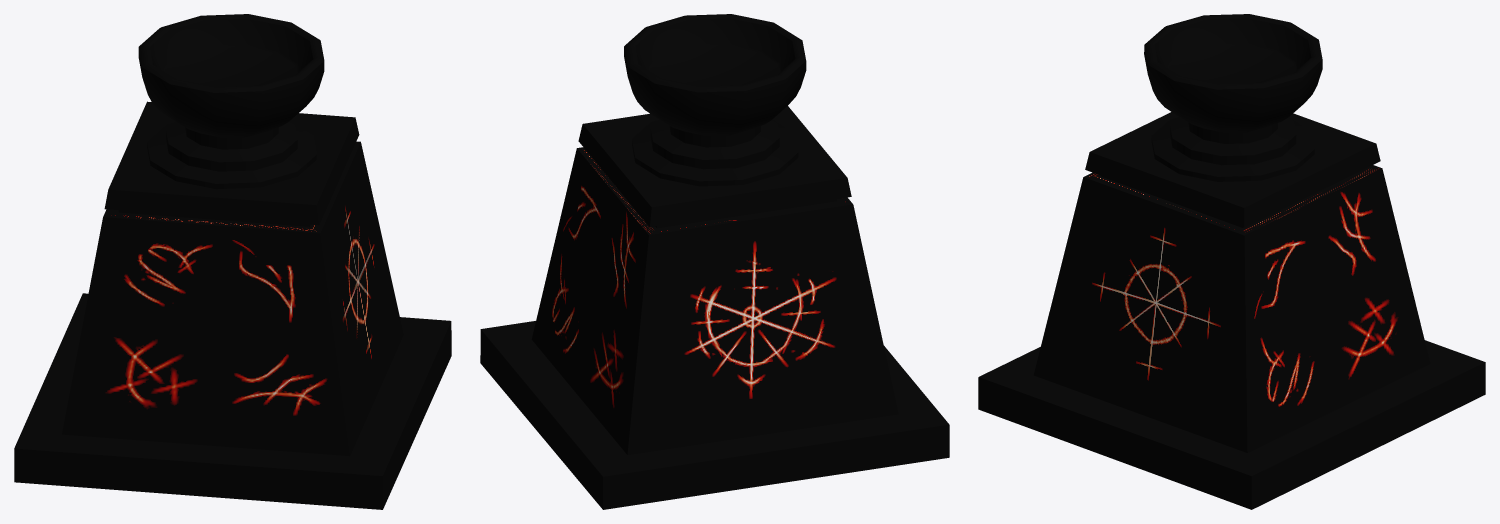
File: AltarDem.glb
The picture shows the model from 3 angles, left to right: view 1: azimuth 30°, elevation 25°; view 2: azimuth 150°, elevation 25°; view 3: azimuth 270°, elevation 25°; orthographic projection. The views are drawn at different scales.
Visible parts, largest first — view 1: Altar; view 2: Altar; view 3: Altar.
Part boxes in pixels (x1=…): Altar: x1=14, y1=14, x2=451, y2=509; Altar: x1=480, y1=14, x2=949, y2=509; Altar: x1=978, y1=14, x2=1485, y2=509.
Size of the model in its own units: 18.89 by 14.52 by 18.88.
1 material, 1 textured.
